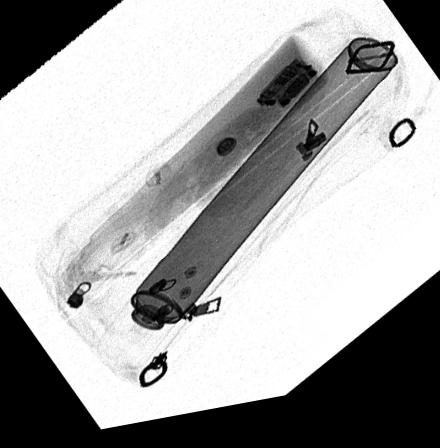Sprayer: (97, 50, 397, 372)
